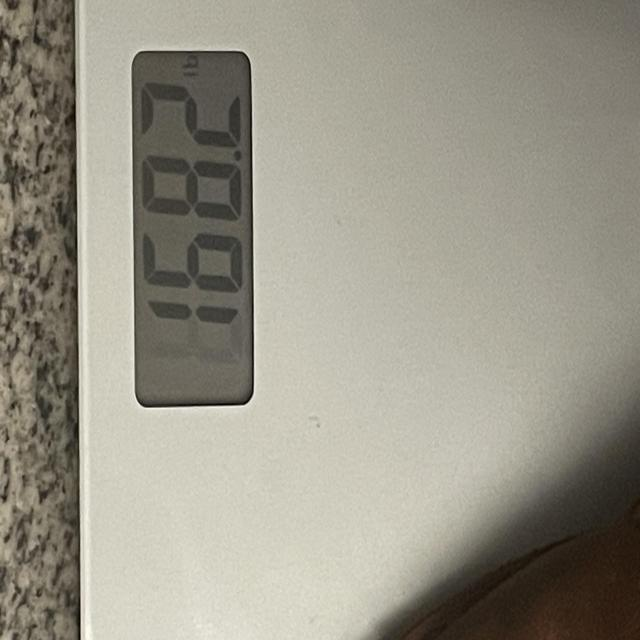ws: (130, 50, 256, 411)
